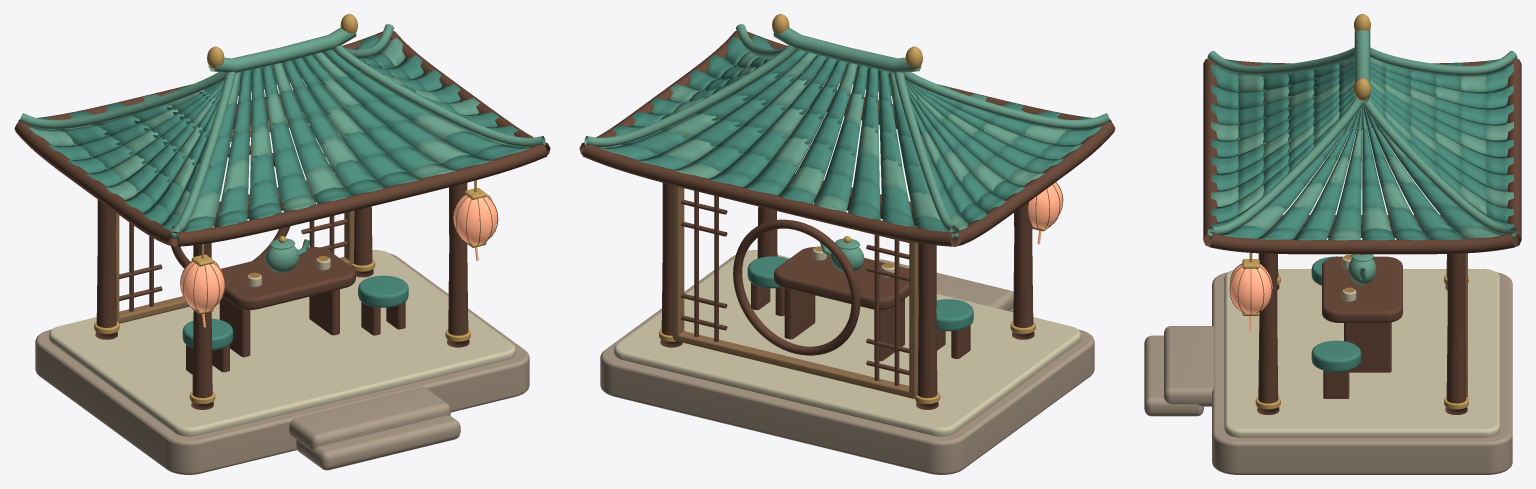
File: tea_pavilion_crafted.glb
The picture shows the model from 3 angles, left to right: view 1: azimuth 30°, elevation 25°; view 2: azimuth 150°, elevation 25°; view 3: azimuth 270°, elevation 25°; orthographic projection.
Visible parts, largest first — view 1: Jade glazed tea tiles, Carved warm stone, Oiled chestnut joinery, Rounded limestone footing, Celadon glazed tile variation, Soft cinnabar lantern, Polished worn timber edge, Antique brass; view 2: Jade glazed tea tiles, Oiled chestnut joinery, Carved warm stone, Rounded limestone footing, Celadon glazed tile variation, Polished worn timber edge, Antique brass, Soft cinnabar lantern; view 3: Jade glazed tea tiles, Carved warm stone, Oiled chestnut joinery, Rounded limestone footing, Celadon glazed tile variation, Soft cinnabar lantern, Antique brass, Polished worn timber edge.
Part boxes in pixels (left/top/right/bottom): Jade glazed tea tiles: left=31, top=35, right=529, bottom=350; Carved warm stone: left=49, top=250, right=515, bottom=436; Oiled chestnut joinery: left=14, top=31, right=550, bottom=409; Rounded limestone footing: left=35, top=253, right=529, bottom=474; Celadon glazed tile variation: left=19, top=24, right=545, bottom=272; Soft cinnabar lantern: left=180, top=195, right=497, bottom=327; Polished worn timber edge: left=115, top=109, right=498, bottom=323; Antique brass: left=94, top=14, right=486, bottom=404; Jade glazed tea tiles: left=600, top=35, right=1101, bottom=331; Oiled chestnut joinery: left=579, top=31, right=1115, bottom=409; Carved warm stone: left=614, top=248, right=1080, bottom=436; Rounded limestone footing: left=600, top=255, right=1094, bottom=474; Celadon glazed tile variation: left=584, top=24, right=1110, bottom=271; Polished worn timber edge: left=672, top=139, right=1063, bottom=398; Antique brass: left=659, top=14, right=1050, bottom=404; Soft cinnabar lantern: left=777, top=144, right=1062, bottom=244; Jade glazed tea tiles: left=1209, top=59, right=1515, bottom=372; Carved warm stone: left=1224, top=256, right=1500, bottom=437; Oiled chestnut joinery: left=1203, top=58, right=1521, bottom=415; Rounded limestone footing: left=1144, top=272, right=1512, bottom=474; Celadon glazed tile variation: left=1207, top=30, right=1517, bottom=284; Soft cinnabar lantern: left=1229, top=264, right=1272, bottom=330; Antique brass: left=1242, top=14, right=1468, bottom=409; Polished worn timber edge: left=1229, top=253, right=1467, bottom=396.
Size of the model in its own units: 4 by 3.5 by 3.49.
